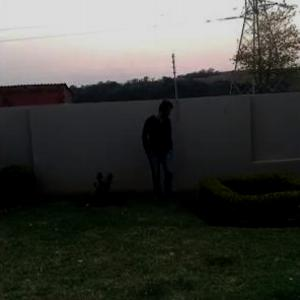follow: (141, 93, 175, 208)
